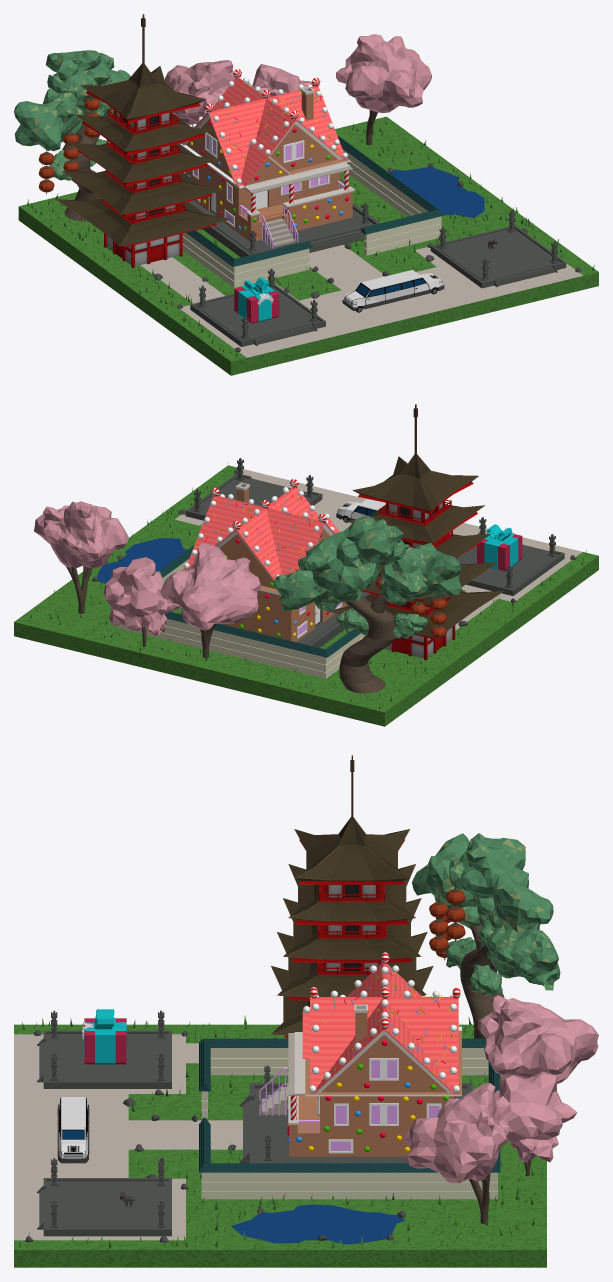
The picture shows the model from 3 angles, top to bottom: view 1: azimuth 30°, elevation 25°; view 2: azimuth 150°, elevation 25°; view 3: azimuth 270°, elevation 25°; orthographic projection. The views are drawn at different scales.
Parts seen in each view (by area): view 1: Cube.005, Cube.1203, VEHICLES_LIMOUSINE, OBJRANDOM_GIANT_PRESENT; view 2: Cube.005, Cube.1203, OBJRANDOM_GIANT_PRESENT, VEHICLES_LIMOUSINE; view 3: Cube.005, Cube.1203, OBJRANDOM_GIANT_PRESENT, VEHICLES_LIMOUSINE.
Boxes of the visible parts, <box> form: Cube.005: <box>14,14,598,375</box>; Cube.1203: <box>179,69,355,248</box>; VEHICLES_LIMOUSINE: <box>342,270,444,312</box>; OBJRANDOM_GIANT_PRESENT: <box>234,277,279,323</box>; Cube.005: <box>14,404,598,726</box>; Cube.1203: <box>181,479,347,641</box>; OBJRANDOM_GIANT_PRESENT: <box>477,524,522,570</box>; VEHICLES_LIMOUSINE: <box>336,499,385,522</box>; Cube.005: <box>14,755,598,1267</box>; Cube.1203: <box>259,952,461,1156</box>; OBJRANDOM_GIANT_PRESENT: <box>82,1009,127,1064</box>; VEHICLES_LIMOUSINE: <box>57,1097,89,1163</box>.
Size of the model in its own units: 4528 by 2690 by 4389.
48 materials, 6 textured.
